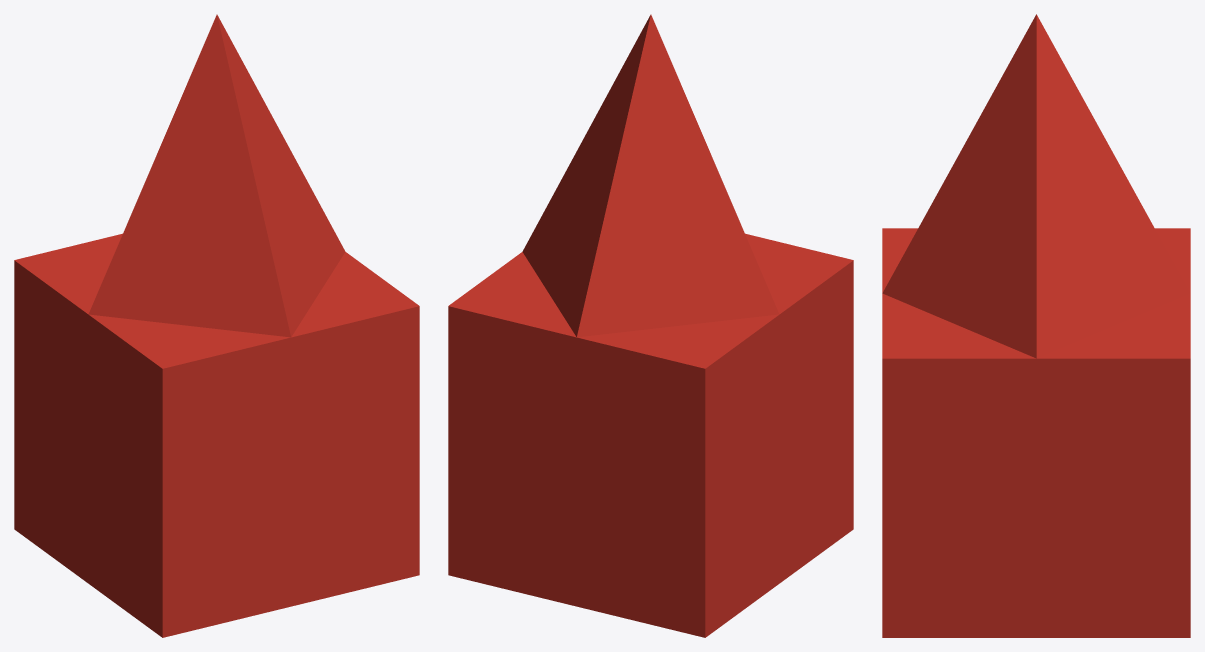
Rendered from Character.fbx.
The picture shows the model from 3 angles, left to right: view 1: azimuth 30°, elevation 25°; view 2: azimuth 150°, elevation 25°; view 3: azimuth 270°, elevation 25°; orthographic projection. The views are drawn at different scales.
Visible parts, largest first — view 1: Player; view 2: Player; view 3: Player.
Boxes of the visible parts, box(x1,y1,x2,y2) form: Player: box(14, 14, 419, 637); Player: box(448, 14, 853, 637); Player: box(882, 14, 1190, 637).
Size of the model in its own units: 2 by 4 by 2.
